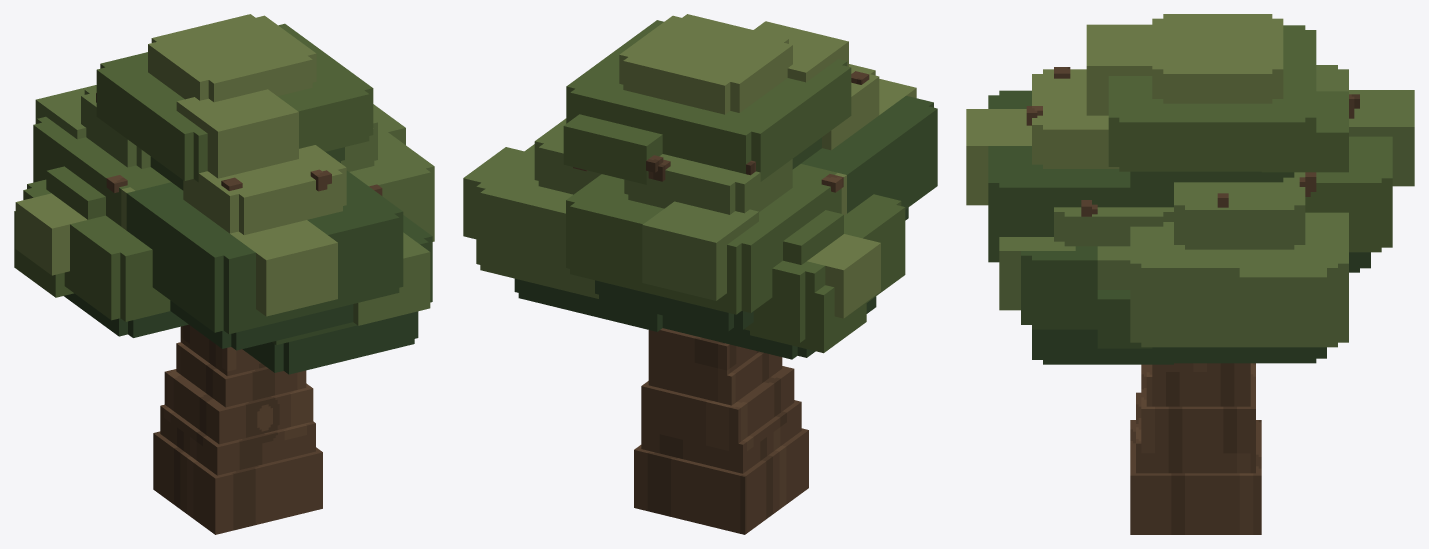
File: apple_mature_3.glb
3 renders of one model, left to right at view 1: azimuth 30°, elevation 25°; view 2: azimuth 150°, elevation 25°; view 3: azimuth 270°, elevation 25°, orthographic. The views are drawn at different scales.
Parts seen in each view (by area): view 1: VoxelVisual; view 2: VoxelVisual; view 3: VoxelVisual.
Boxes of the visible parts, box(x1,y1,x2,y2) form: VoxelVisual: box(14, 14, 434, 534); VoxelVisual: box(463, 14, 937, 534); VoxelVisual: box(966, 14, 1414, 534).
Size of what is drawn, in the model's own units: 10 by 11.75 by 10.25.
